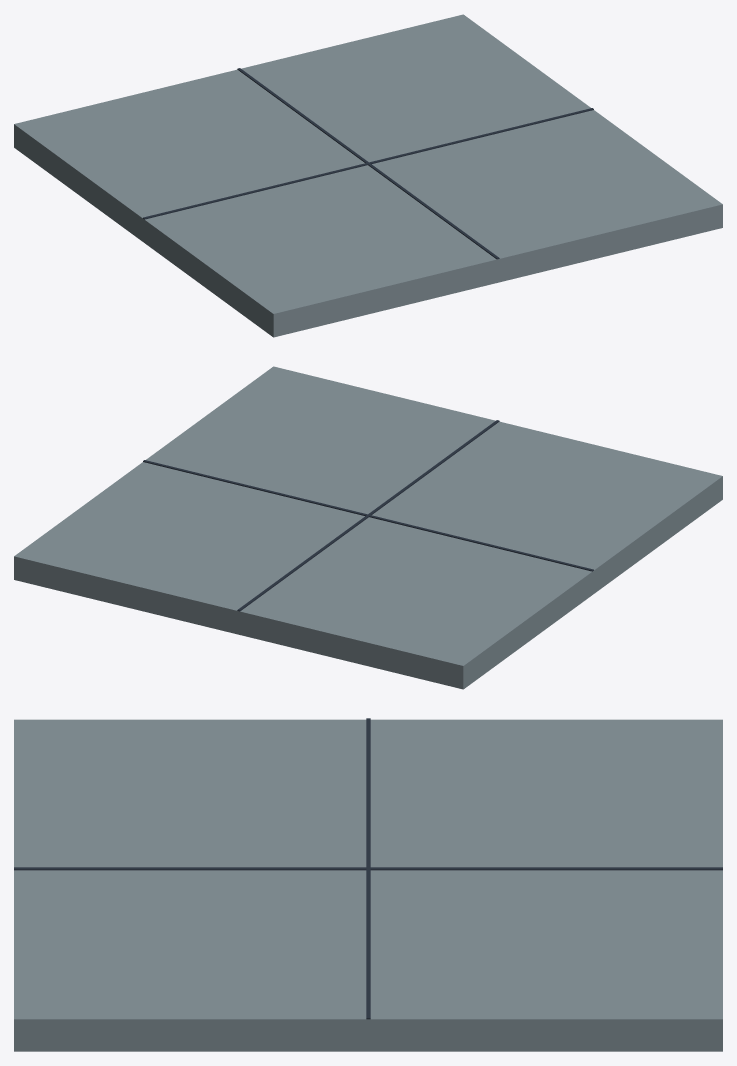
File: floor.gltf
3 views of the same model, one above another, from view 1: azimuth 30°, elevation 25°; view 2: azimuth 150°, elevation 25°; view 3: azimuth 270°, elevation 25° (orthographic). The views are drawn at different scales.
Visible parts, largest first — view 1: Floor tile; view 2: Floor tile; view 3: Floor tile.
Boxes of the visible parts, <box> form: Floor tile: <box>14,14,722,337</box>; Floor tile: <box>14,366,722,689</box>; Floor tile: <box>14,718,722,1051</box>.
Bounding box in the file's own units: 2 × 0.104 × 2.
